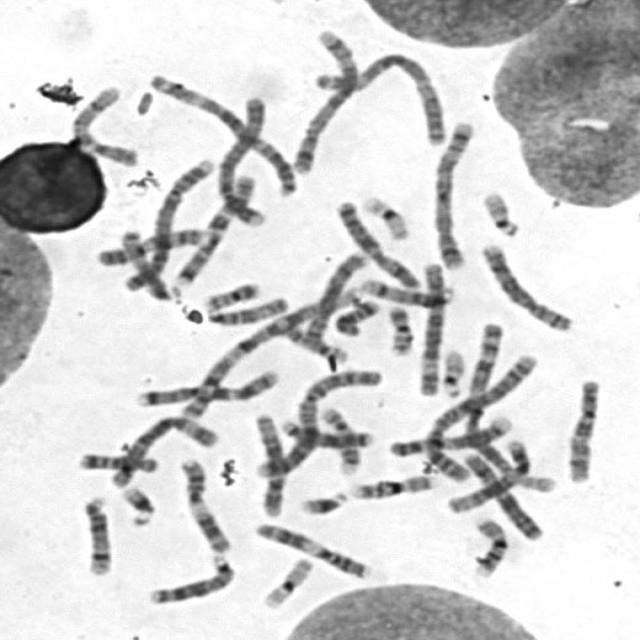A1: (171, 281, 379, 421), (462, 321, 555, 497)
A2: (416, 348, 540, 482), (249, 362, 385, 479)
A3: (143, 66, 304, 198), (306, 47, 453, 147)
B4: (117, 151, 218, 295), (212, 90, 272, 229)
B5: (287, 26, 362, 176), (428, 116, 480, 272)
C10: (64, 82, 138, 169), (562, 372, 604, 486)
C11: (248, 516, 376, 580), (174, 452, 235, 555)
C12: (442, 436, 530, 514), (249, 408, 288, 519)
C6: (103, 409, 224, 489), (412, 256, 450, 399)
C7: (167, 168, 261, 287), (131, 364, 283, 410)
C8: (477, 238, 578, 333), (294, 246, 371, 347)
C9: (384, 411, 516, 458), (91, 222, 211, 268)
D13: (142, 549, 238, 607), (276, 416, 376, 449)
D14: (76, 491, 116, 577), (354, 274, 456, 307)
D15: (116, 225, 180, 301), (203, 290, 293, 328)
E16: (466, 512, 512, 578), (347, 469, 438, 501)
E17: (313, 401, 363, 476), (279, 321, 351, 363)
E18: (74, 447, 161, 475), (330, 293, 383, 337)
F19: (258, 552, 316, 609), (354, 190, 412, 241)
F20: (200, 277, 264, 311), (382, 300, 417, 357)
G21: (116, 481, 160, 528), (294, 485, 351, 516)
G22: (476, 186, 524, 238), (436, 344, 469, 399)
X: (330, 195, 426, 292), (458, 448, 546, 542)
